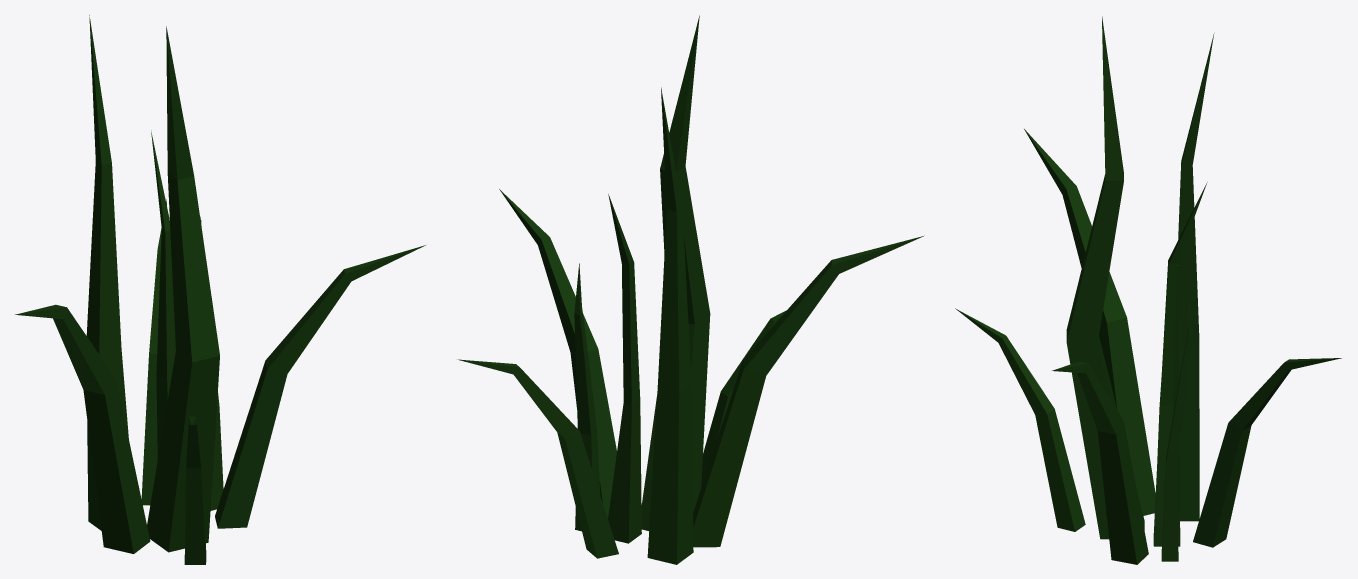
Rendered from grass5.obj.
3 views of the same model, side by side, from view 1: azimuth 30°, elevation 25°; view 2: azimuth 150°, elevation 25°; view 3: azimuth 270°, elevation 25° (orthographic). The views are drawn at different scales.
Visible parts, largest first — view 1: Grass1.001_Cube.048; view 2: Grass1.001_Cube.048; view 3: Grass1.001_Cube.048.
Boxes of the visible parts, bbox=[...] form: Grass1.001_Cube.048: bbox=[15, 15, 425, 564]; Grass1.001_Cube.048: bbox=[458, 15, 924, 564]; Grass1.001_Cube.048: bbox=[955, 16, 1341, 564].
Size of the model in its own units: 1.66 by 1.95 by 1.36.
